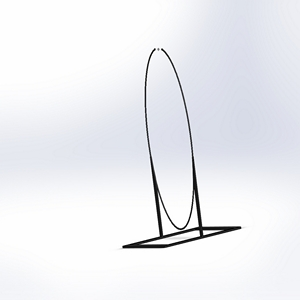circle: (120, 47, 243, 249)
